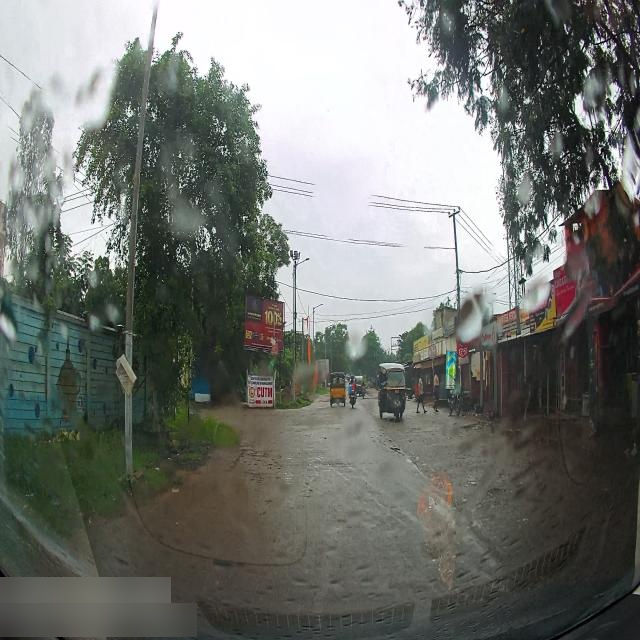pothole: (374, 428, 402, 467)
